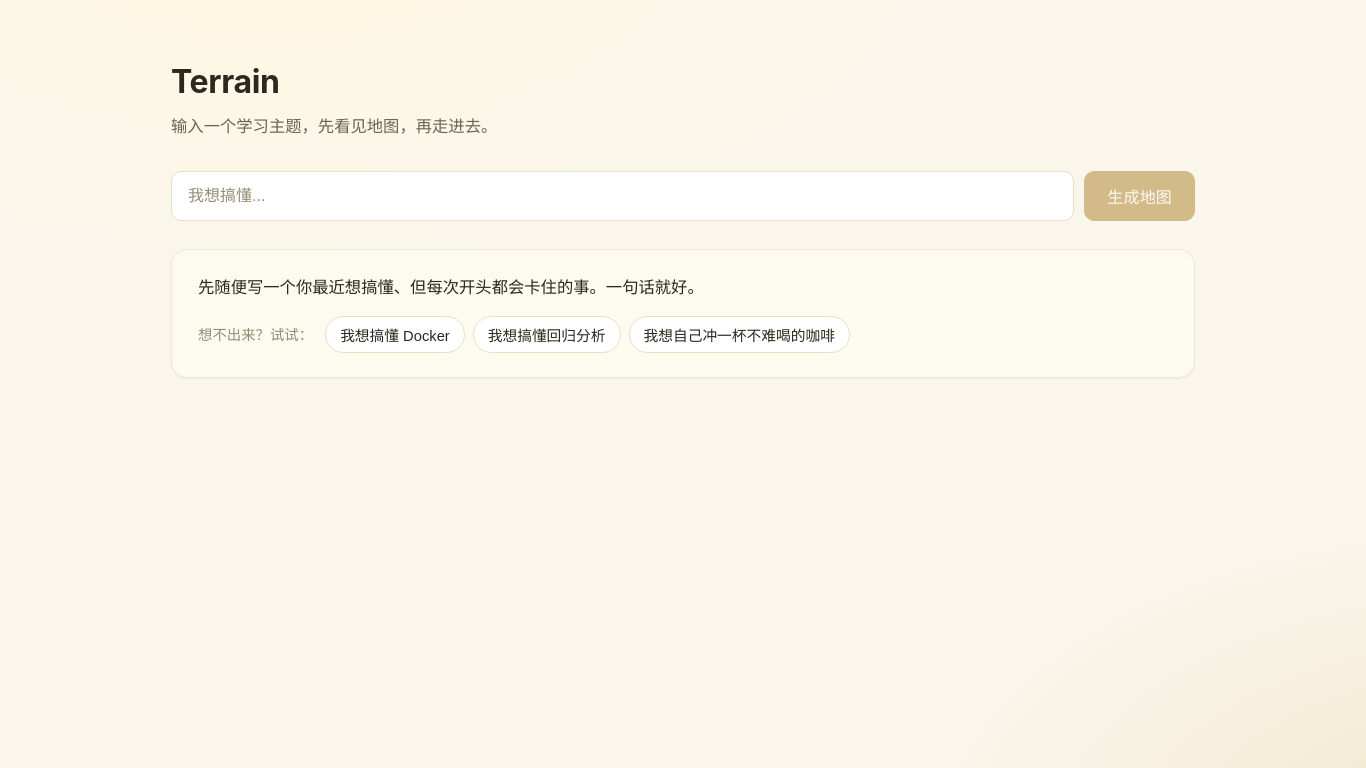
Scenario: App integration › submits a topic, renders the map, opens a node, then toggles completion (full happy path)
# submit topic
Type "Docker" into the field named "学习主题" at [623, 196], box [171, 171, 1074, 221]
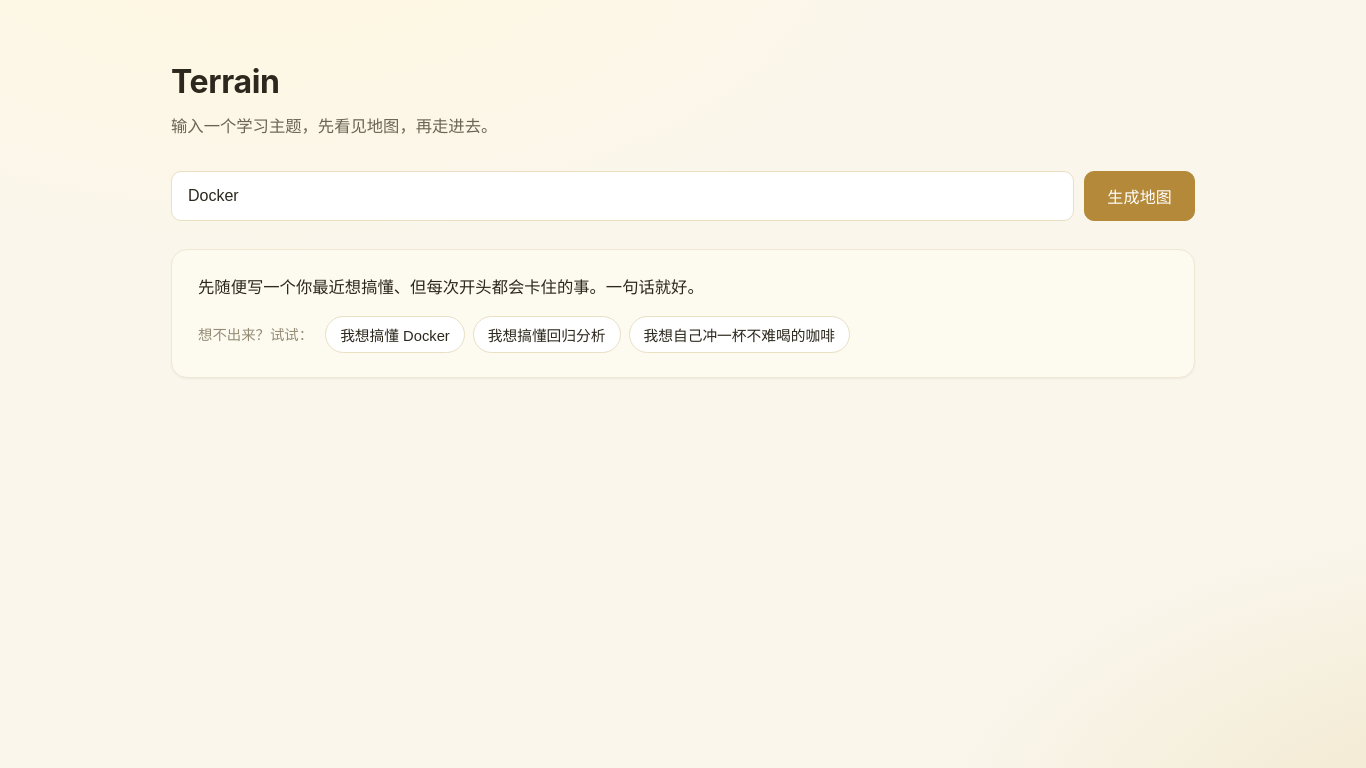
Click the button "生成地图" at [1140, 196], box [1084, 171, 1195, 221]
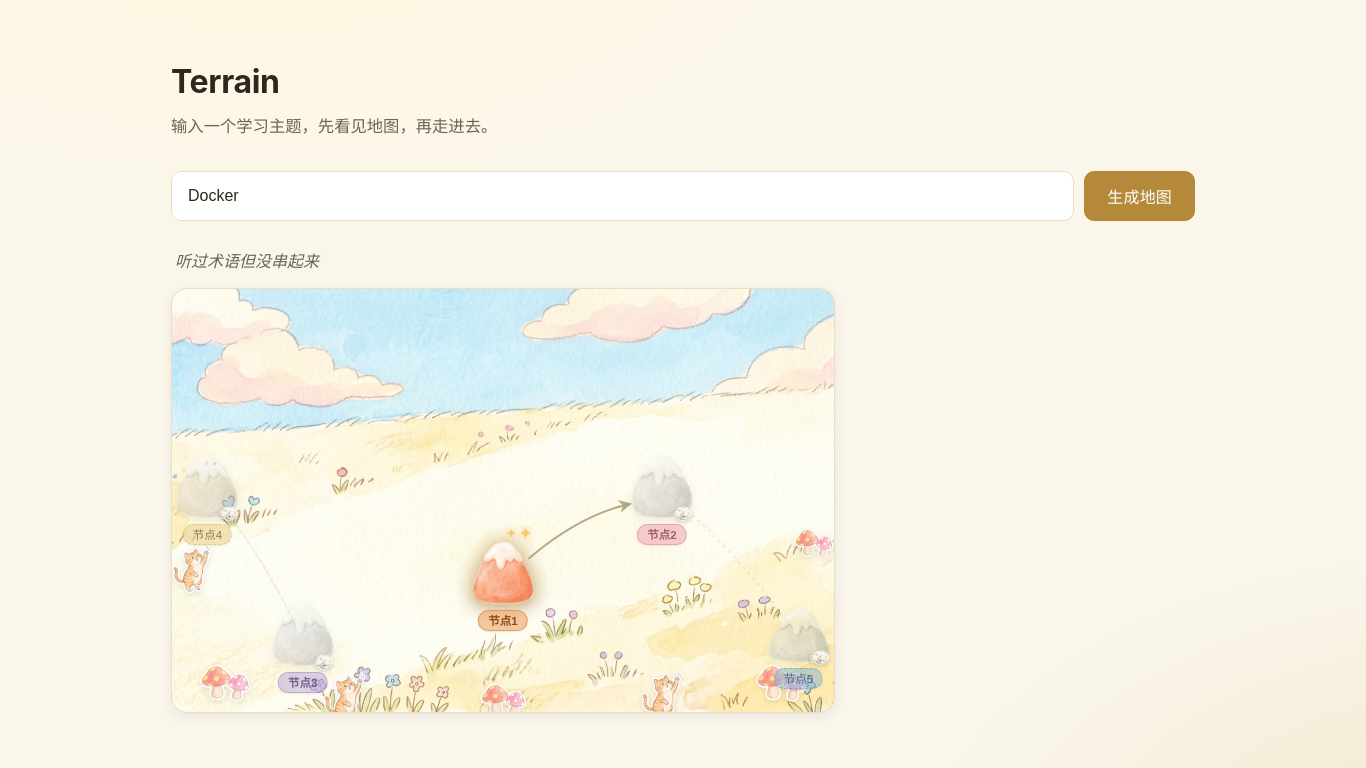
Check: the text "听过术语但没串起来" is shown, box [175, 251, 319, 271]
Check: the button with test id "map-node-node-2" is shown
# click node
Click the button with test id "map-node-node-2" at [662, 487], box [630, 455, 693, 519]
(page scrolled)
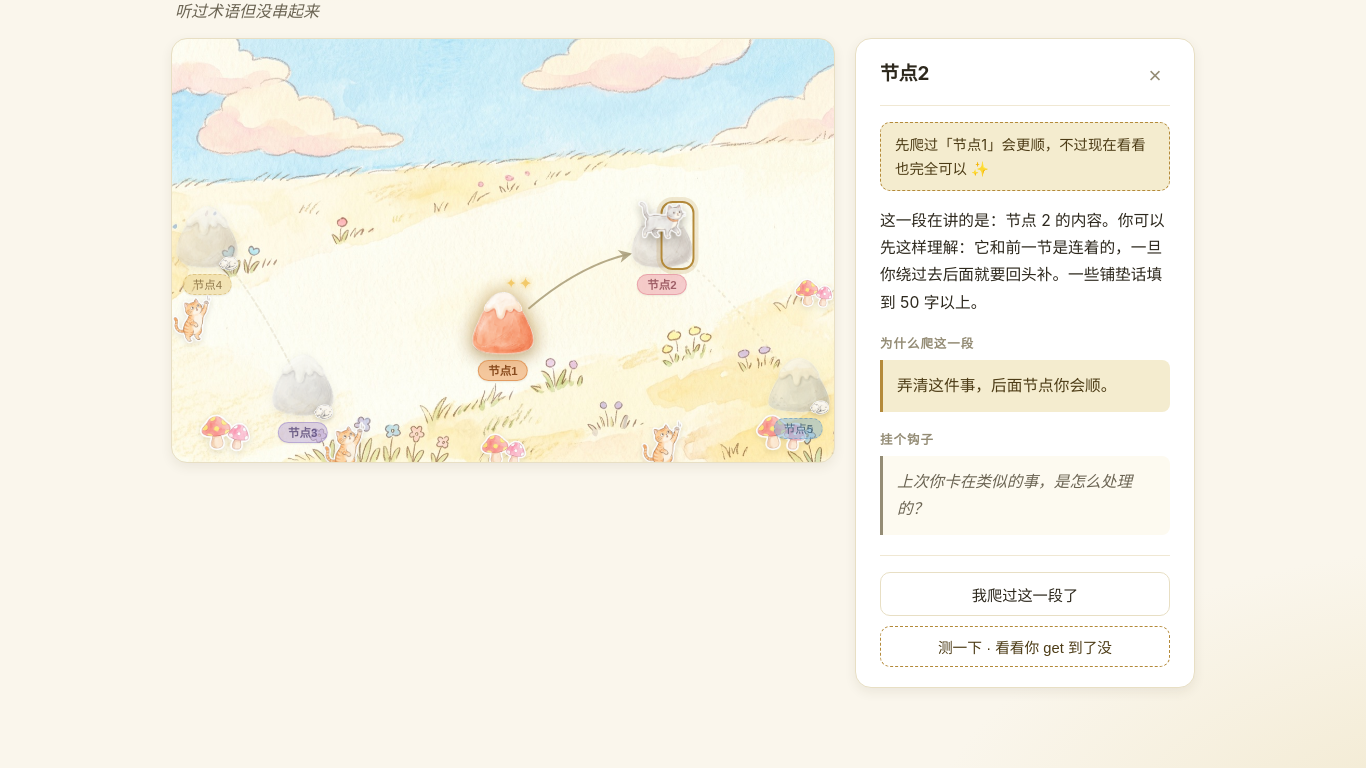
Check: the text "这一段在讲的是" is shown, box [880, 211, 1165, 312]
Check: the text "弄清这件事，后面节点你会顺。" is shown, box [880, 360, 1170, 412]
Check: the text "上次你卡在类似的事，是怎么处理的？" is shown, box [880, 456, 1170, 535]
# toggle complete
Click the button "我爬过这一段了" at [1025, 594], box [880, 572, 1170, 616]
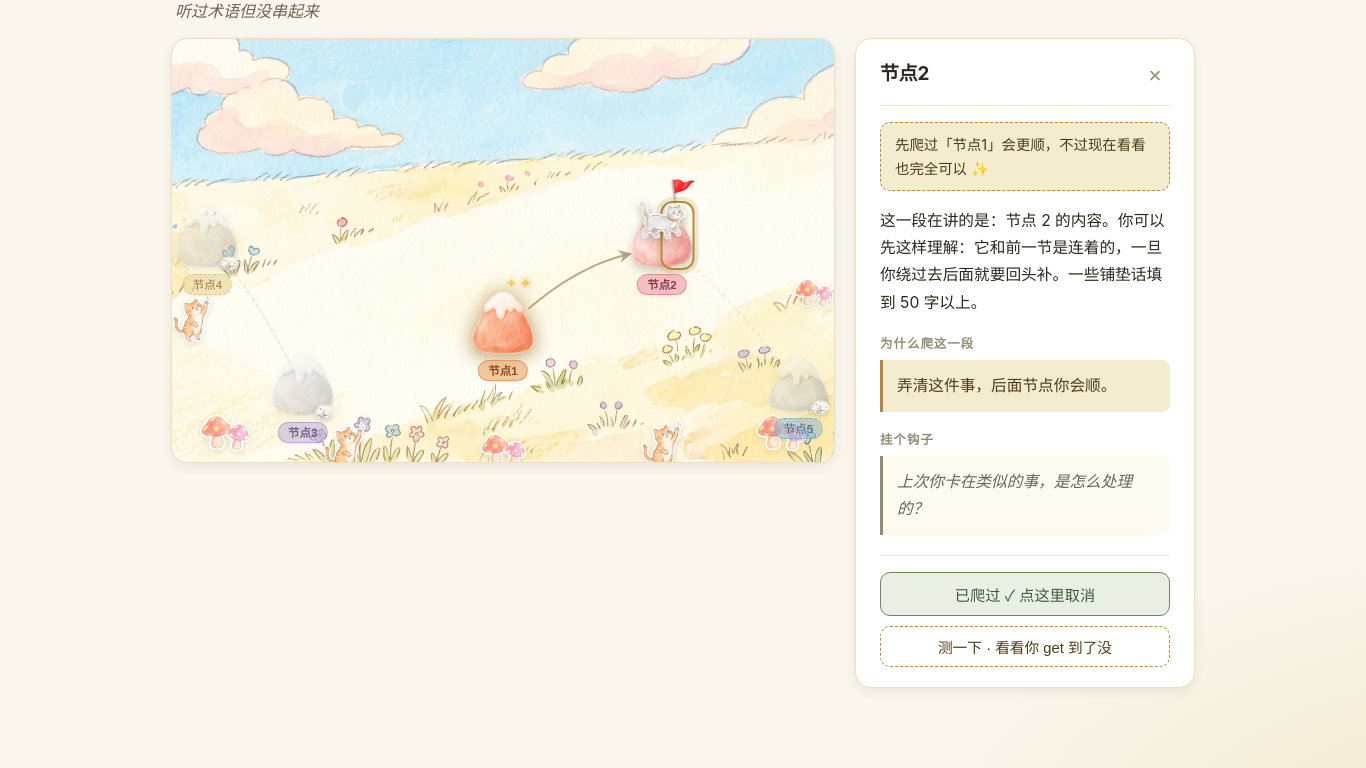
Check: the button "已爬过 ✓ 点这里取消" is shown, box [880, 572, 1170, 616]
